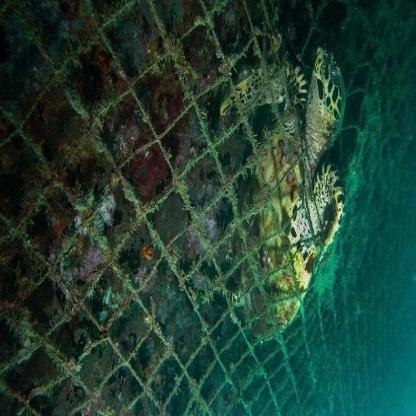net: (7, 3, 411, 415)
